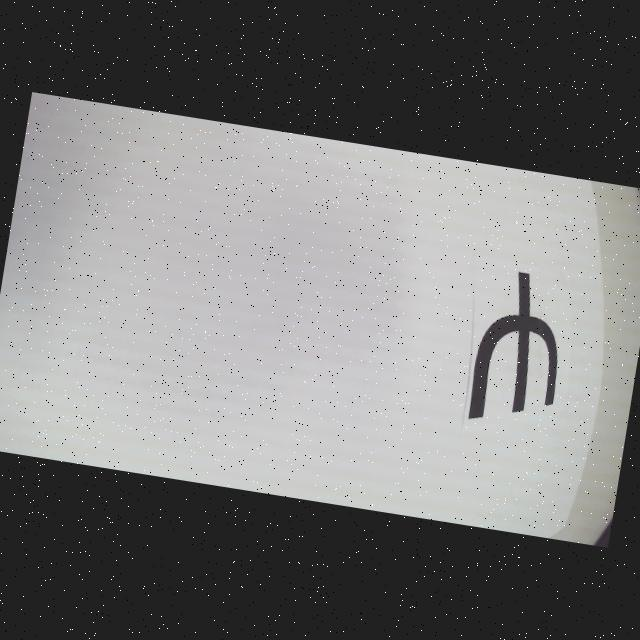PSI: (468, 267, 574, 433)
